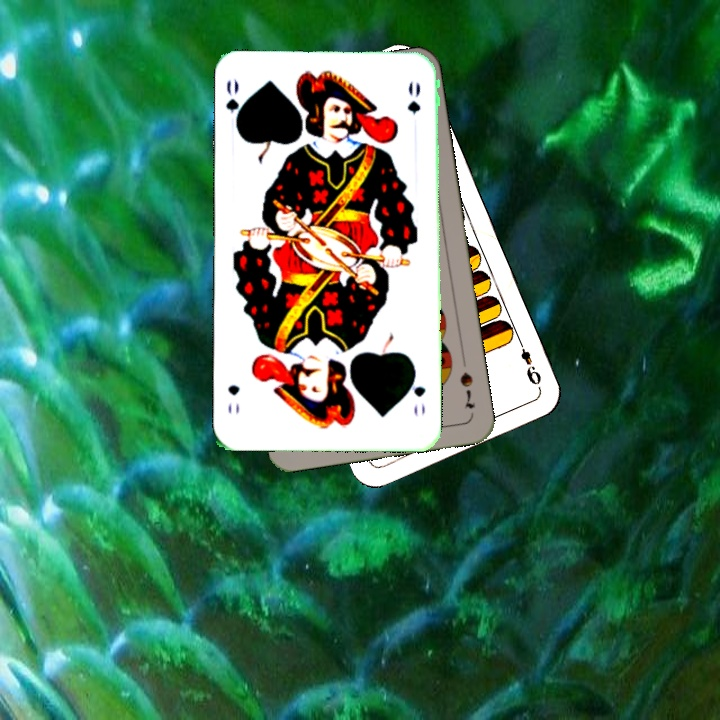E9: (513, 334, 544, 388)
GO: (221, 75, 248, 134), (406, 366, 428, 419)
S7: (456, 368, 478, 412)
